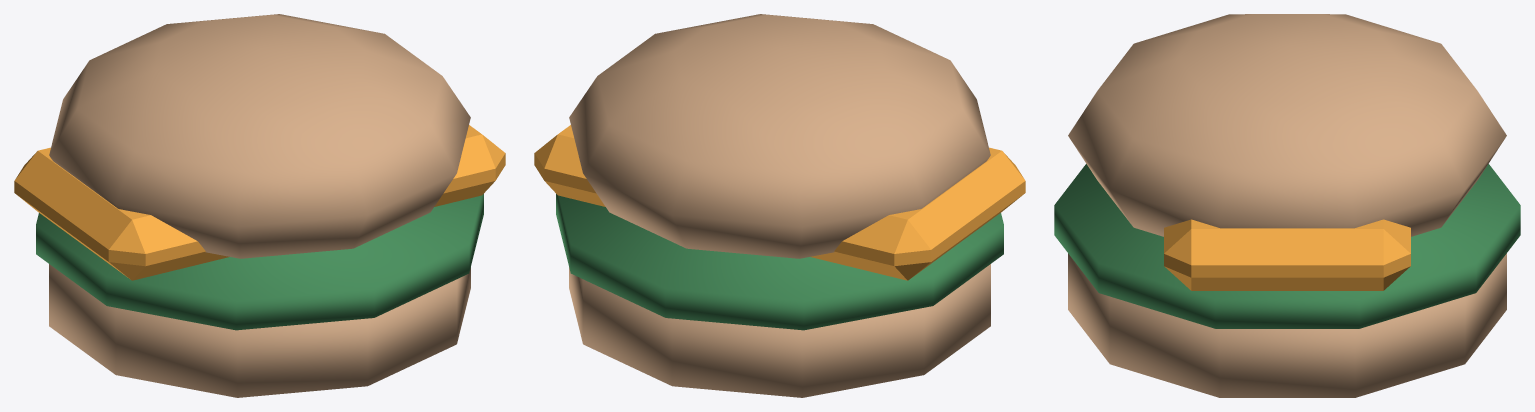
File: food_fish_sandwich.glb
3 renders of one model, left to right at view 1: azimuth 30°, elevation 25°; view 2: azimuth 150°, elevation 25°; view 3: azimuth 270°, elevation 25°, orthographic.
Visible parts, largest first — view 1: food_fish_sandwich_top, food_fish_sandwich_leaf, food_fish_sandwich, food_fish_sandwich_fish; view 2: food_fish_sandwich_top, food_fish_sandwich_leaf, food_fish_sandwich, food_fish_sandwich_fish; view 3: food_fish_sandwich_top, food_fish_sandwich, food_fish_sandwich_leaf, food_fish_sandwich_fish.
Boxes of the visible parts, x1,y1,x2,y2 form: food_fish_sandwich_top: [49, 14, 470, 258]; food_fish_sandwich_leaf: [36, 194, 483, 330]; food_fish_sandwich: [49, 264, 470, 397]; food_fish_sandwich_fish: [14, 125, 505, 280]; food_fish_sandwich_top: [569, 14, 990, 258]; food_fish_sandwich_leaf: [556, 194, 1003, 330]; food_fish_sandwich: [569, 264, 990, 397]; food_fish_sandwich_fish: [534, 125, 1025, 280]; food_fish_sandwich_top: [1068, 14, 1506, 236]; food_fish_sandwich: [1068, 253, 1506, 397]; food_fish_sandwich_leaf: [1054, 164, 1520, 328]; food_fish_sandwich_fish: [1164, 219, 1410, 290].
Size of the model in its own units: 0.17 by 0.106 by 0.17.
